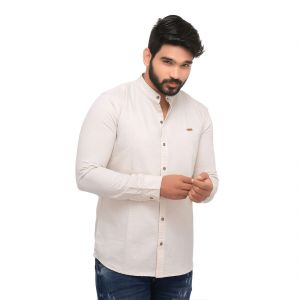NOTSAFE: (94, 11, 208, 276)
